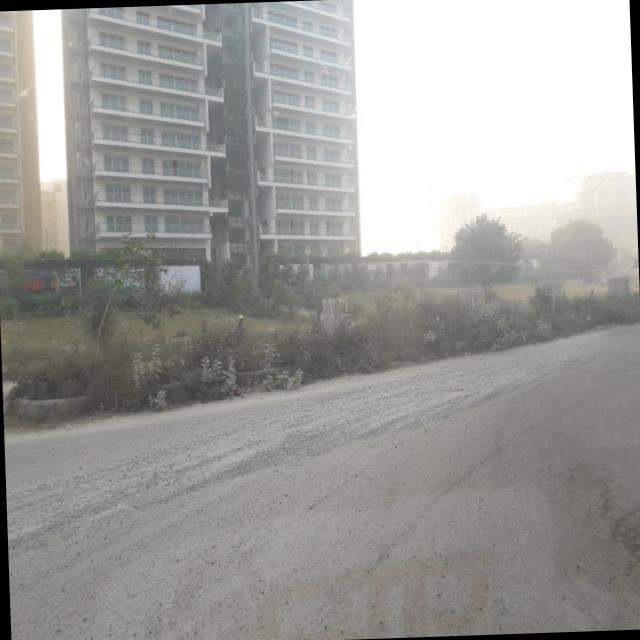crack: (334, 379, 612, 586), (553, 437, 640, 580)
